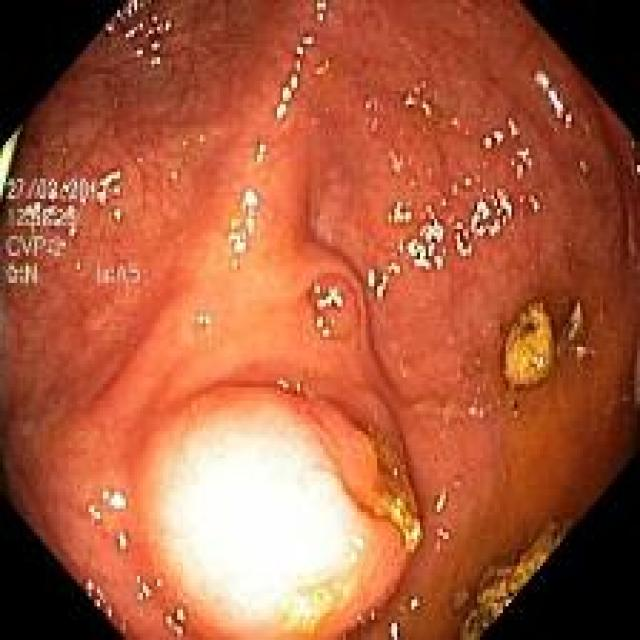Polyps: (141, 388, 420, 636)
